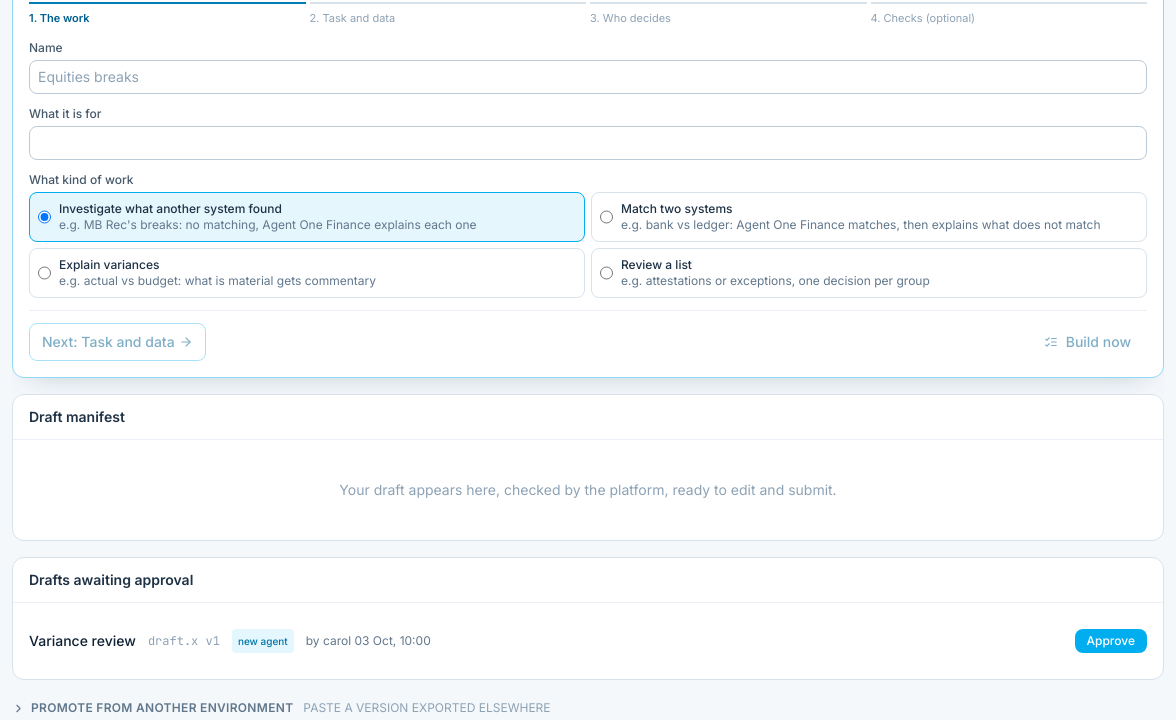
Test: lets a second owner approve a pending draft
(page scrolled)
Click the button "Approve": click(1111, 641) left=1074, top=629, right=1147, bottom=653
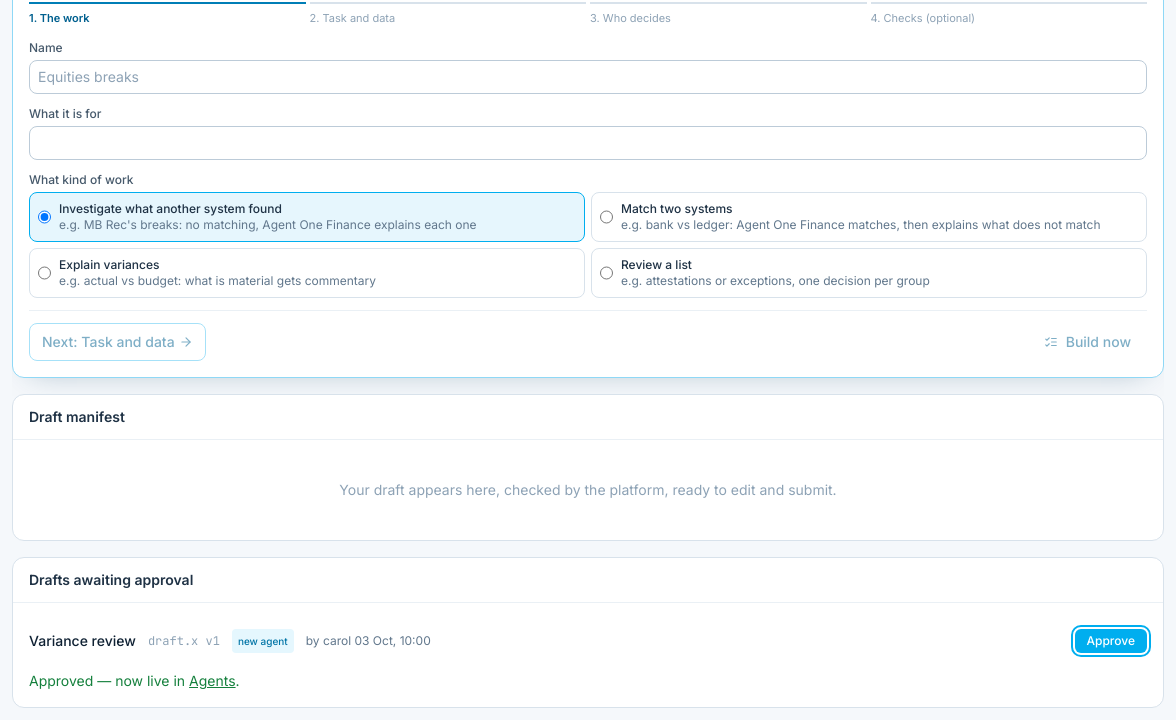
Now the text "Approved — now live in Agents ." is shown, box left=29, top=672, right=240, bottom=689
